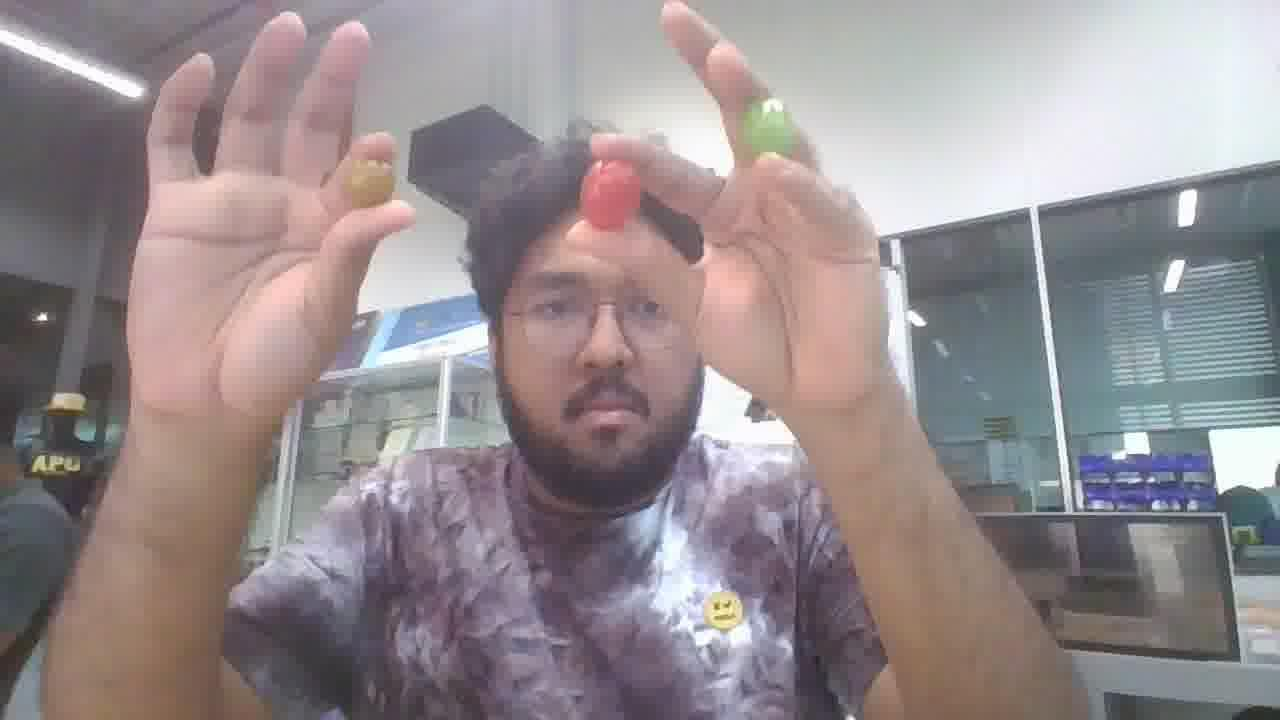green_cherry_tomato: (741, 96, 802, 158)
red_cherry_tomato: (580, 161, 641, 230)
yellow_cherry_tomato: (345, 159, 394, 207)
